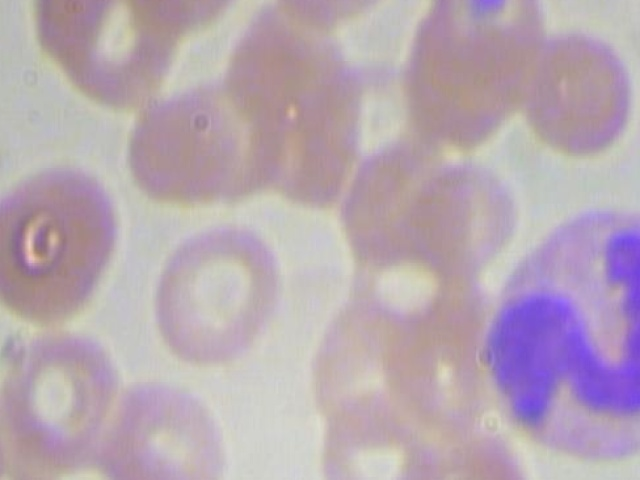RBC: (144, 220, 301, 371), (0, 158, 129, 336), (0, 321, 128, 475), (511, 21, 638, 162), (22, 0, 184, 109), (103, 374, 238, 480), (123, 92, 231, 213), (261, 0, 414, 35)
WBC: (471, 202, 640, 466)
